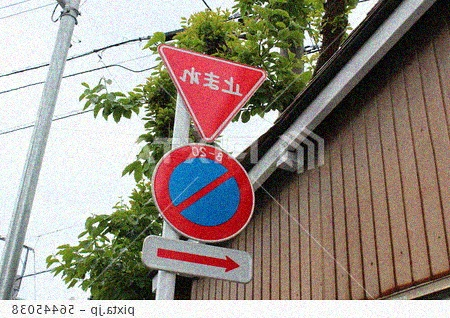Prohibition_sign: (145, 129, 268, 264)
